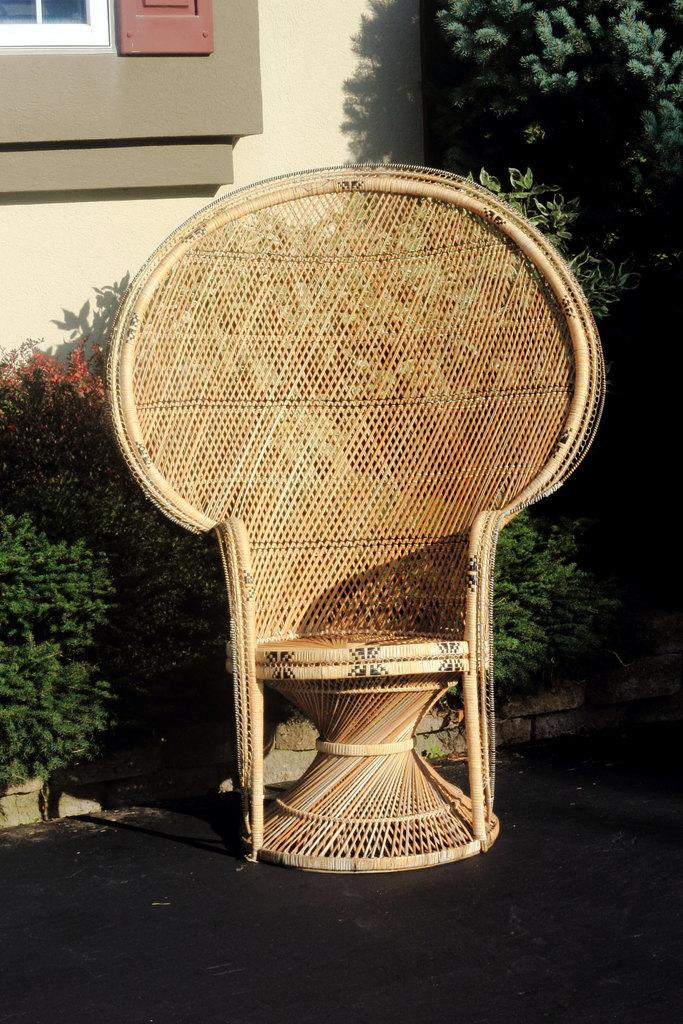Chair: (92, 169, 658, 913)
